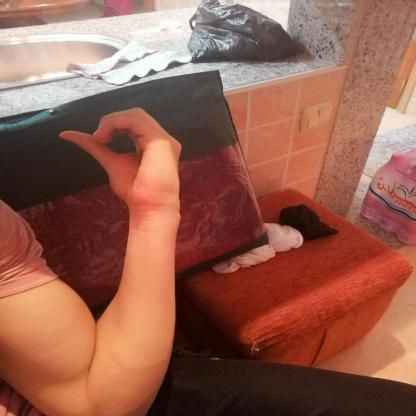WAW: (48, 97, 189, 225)
